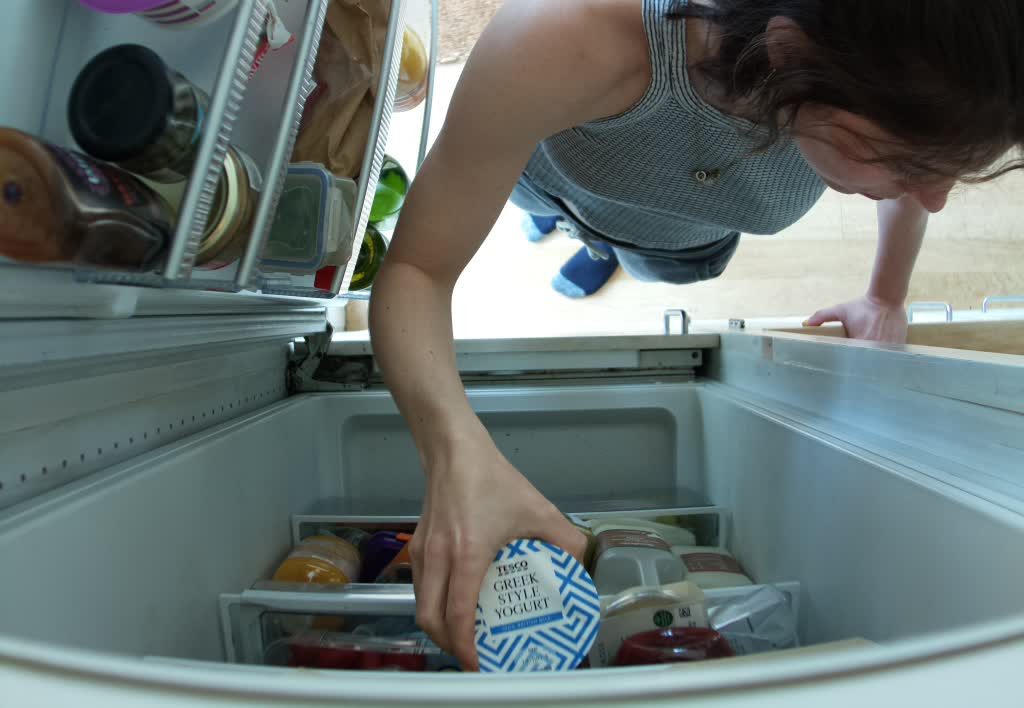yogurt: (463, 529, 608, 675)
